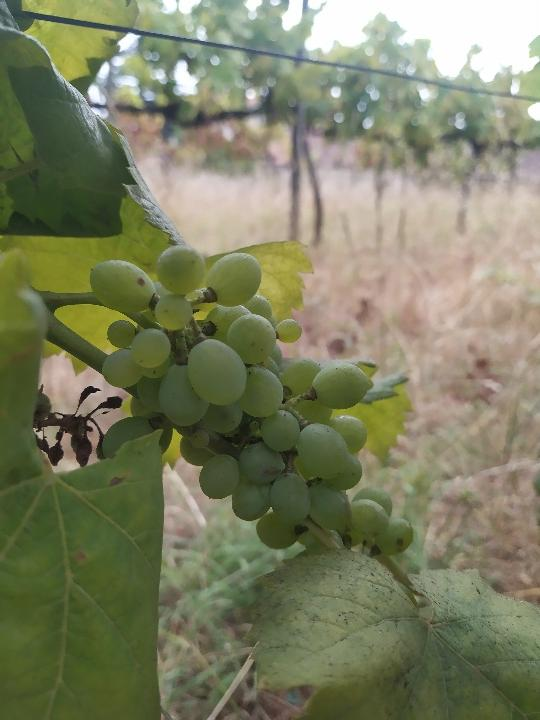grape: (85, 242, 416, 560)
